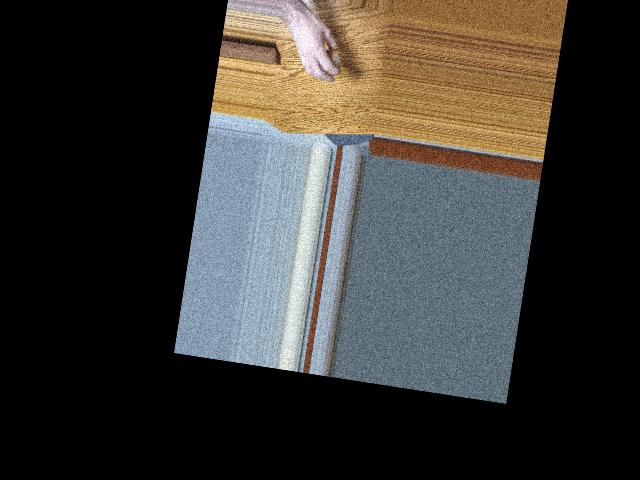onion: (318, 47, 342, 78)
